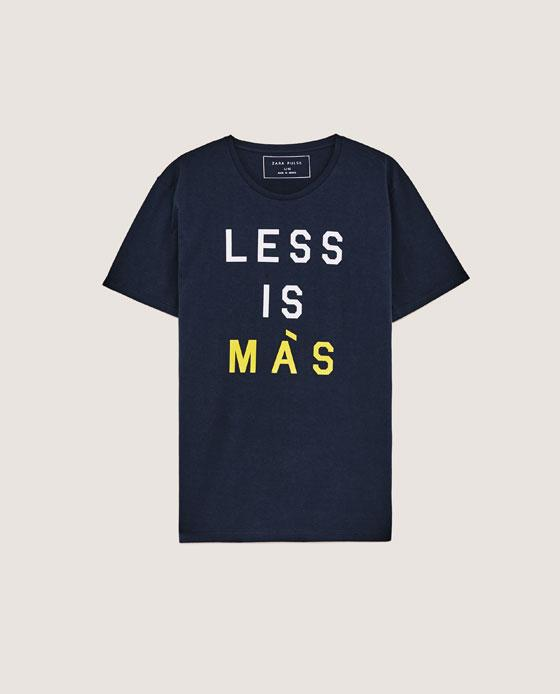teeshirt: (92, 125, 481, 600)
